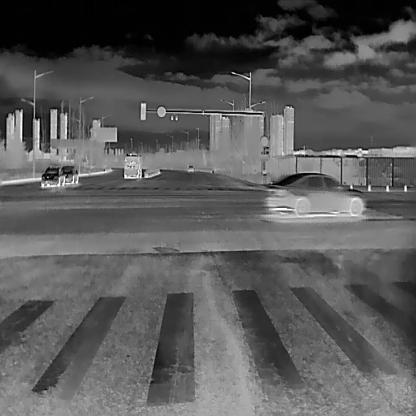car: (266, 171, 364, 217), (40, 165, 65, 186), (61, 165, 79, 184), (186, 164, 194, 172)
truck: (124, 153, 141, 179)
